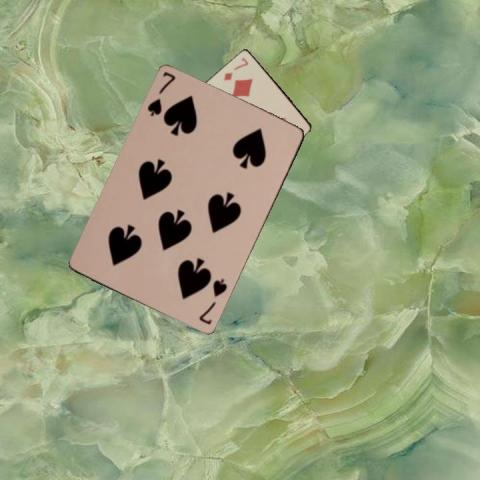7d: (220, 55, 250, 82)
7s: (196, 276, 229, 327), (144, 69, 177, 118)
